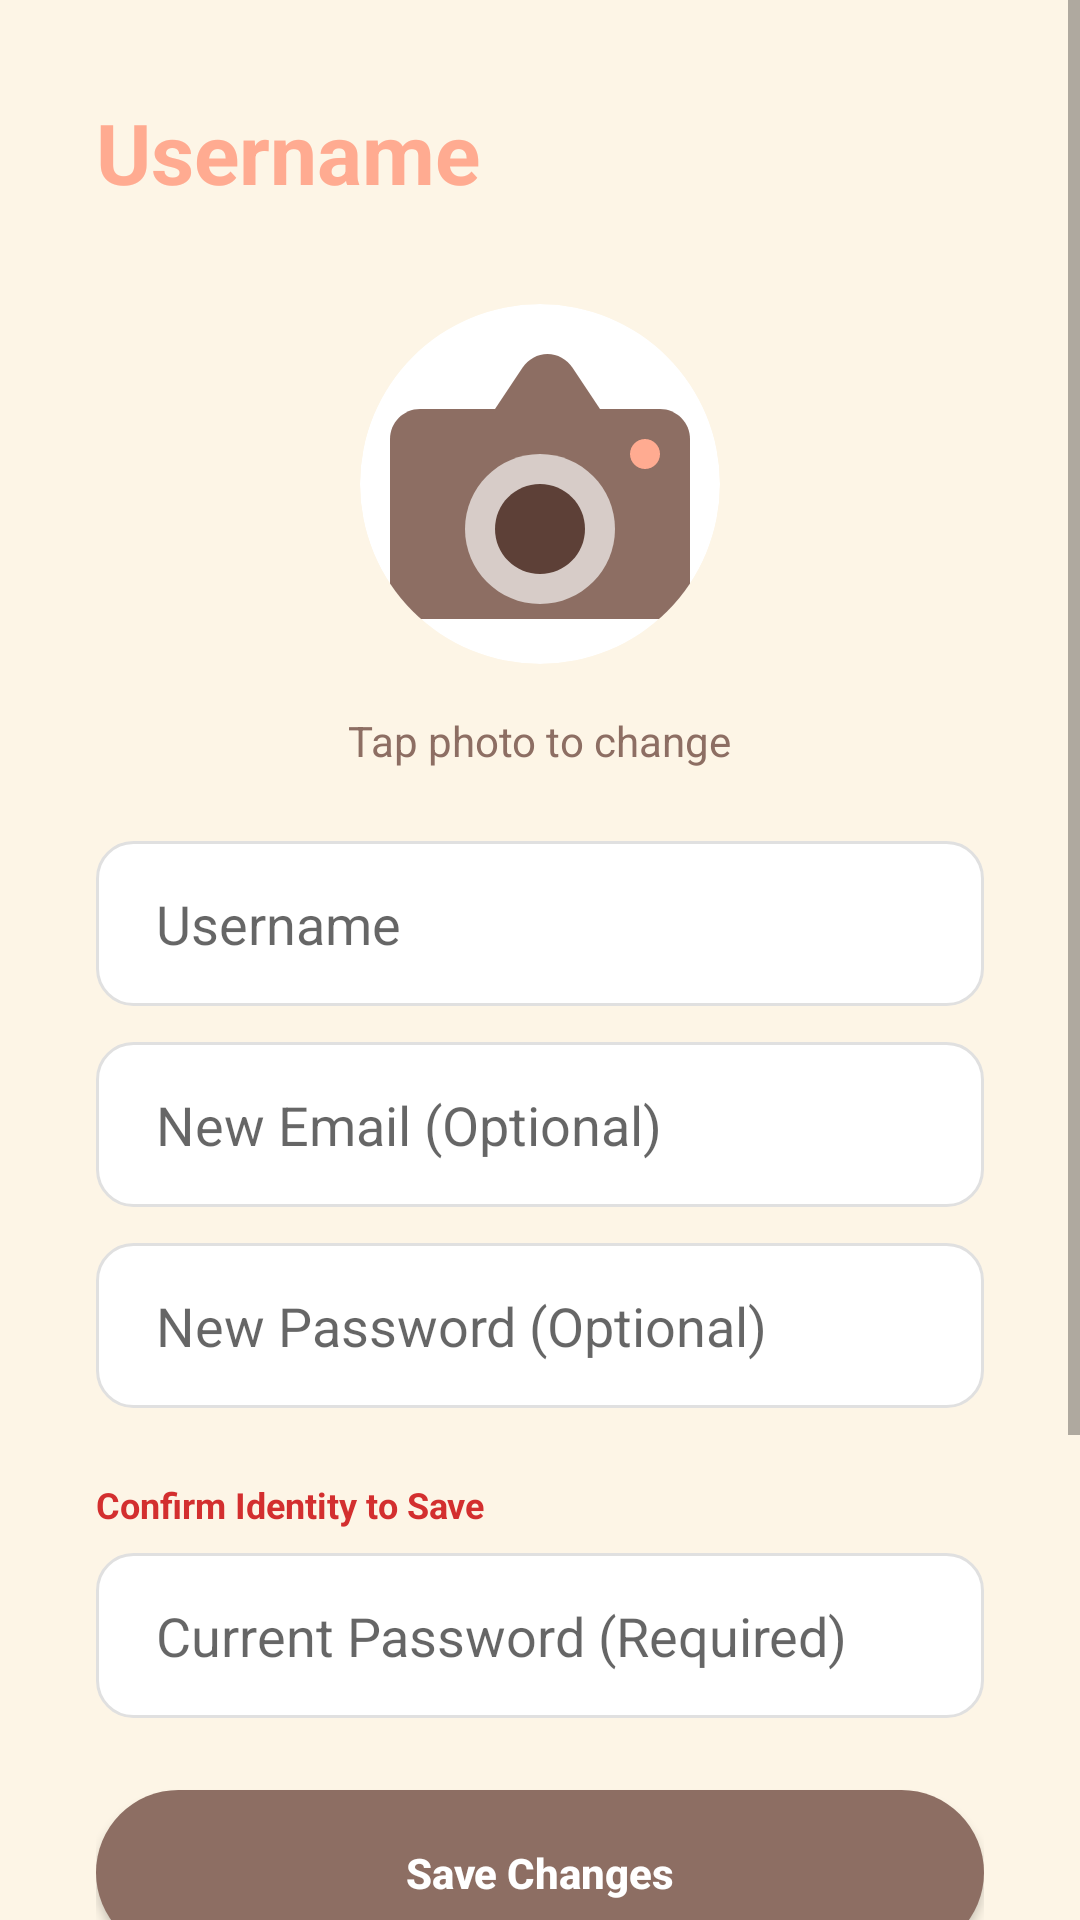

Icon click points for this 1080px×1920px phone screenshot, format (x,y):
cute camera: (540,483)
